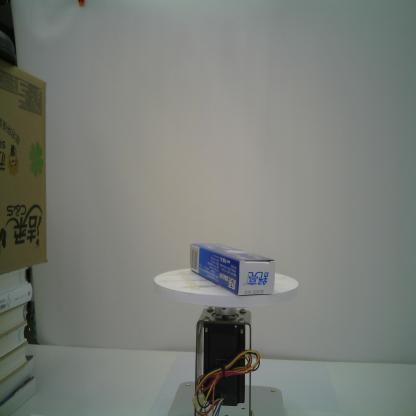Personal Hygiene: (189, 239, 277, 297)
